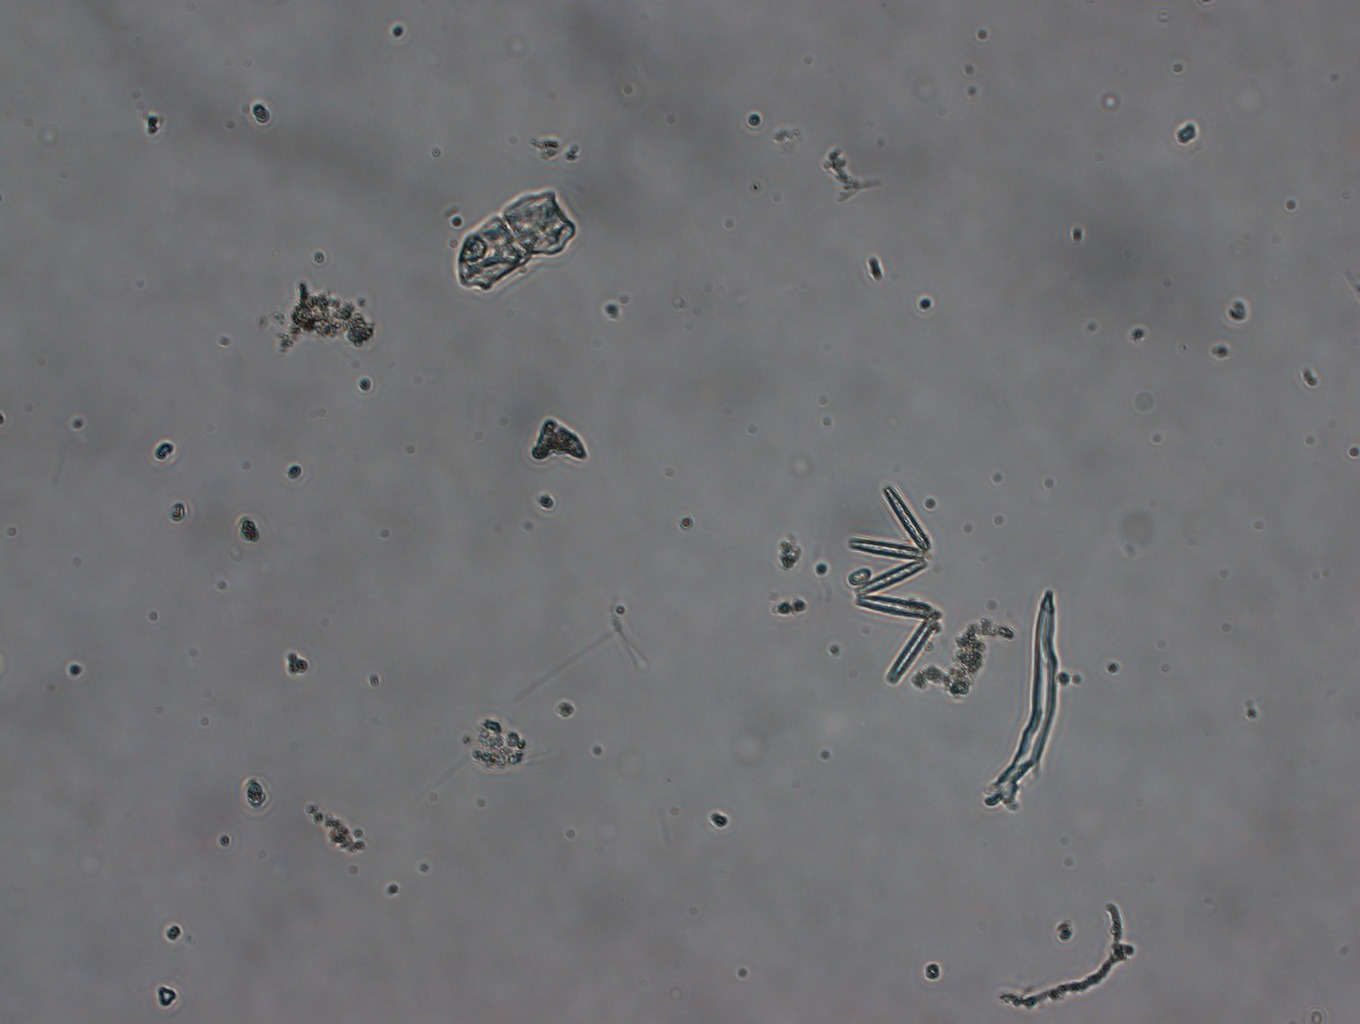thalassionema nitzschioides: (845, 475, 946, 687)
